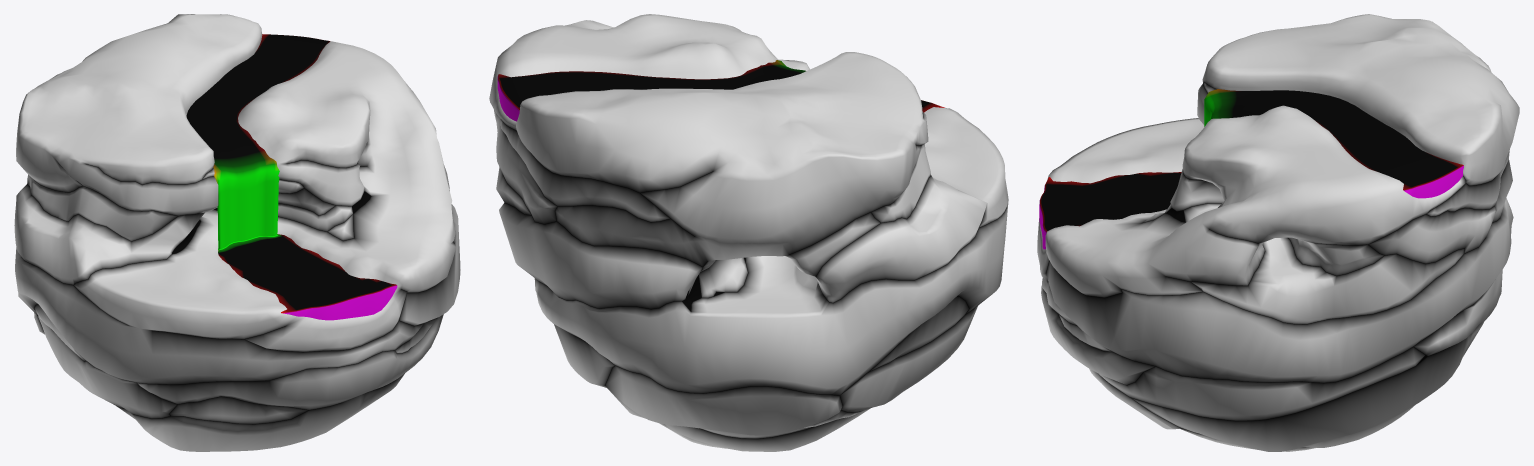
File: Vertex AO Test.fbx
3 renders of one model, left to right at view 1: azimuth 30°, elevation 25°; view 2: azimuth 150°, elevation 25°; view 3: azimuth 270°, elevation 25°, orthographic. The views are drawn at different scales.
Visible parts, largest first — view 1: Vertex_AO_Test, Water_Low; view 2: Vertex_AO_Test, Water_Low; view 3: Vertex_AO_Test, Water_Low.
Part boxes in pixels (x1,y1,x2,y2): Vertex_AO_Test: [14, 14, 460, 451]; Water_Low: [186, 34, 397, 320]; Vertex_AO_Test: [489, 14, 1008, 451]; Water_Low: [497, 60, 944, 121]; Vertex_AO_Test: [1037, 14, 1519, 451]; Water_Low: [1039, 89, 1463, 249].
Bounding box in the file's own units: 100 × 84.82 × 102.
